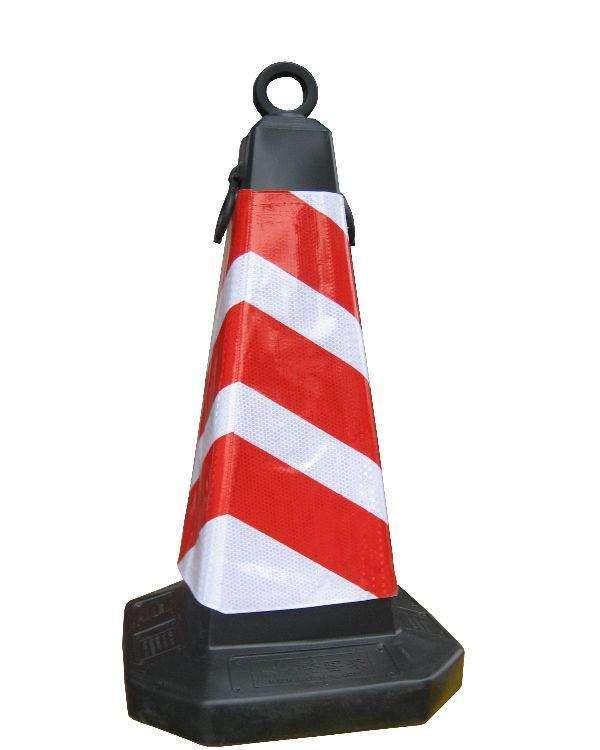sign: (142, 47, 467, 739)
